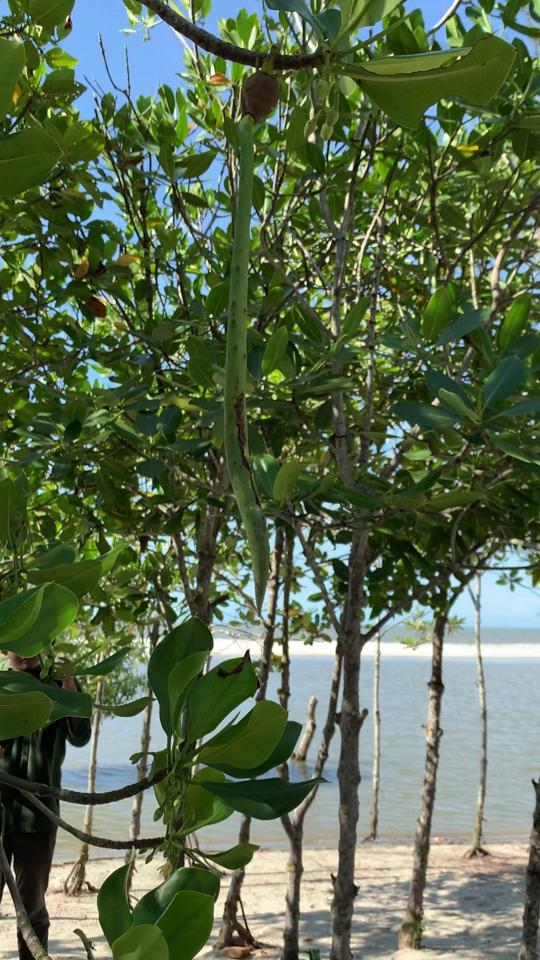setengah matang: (216, 56, 306, 612)
